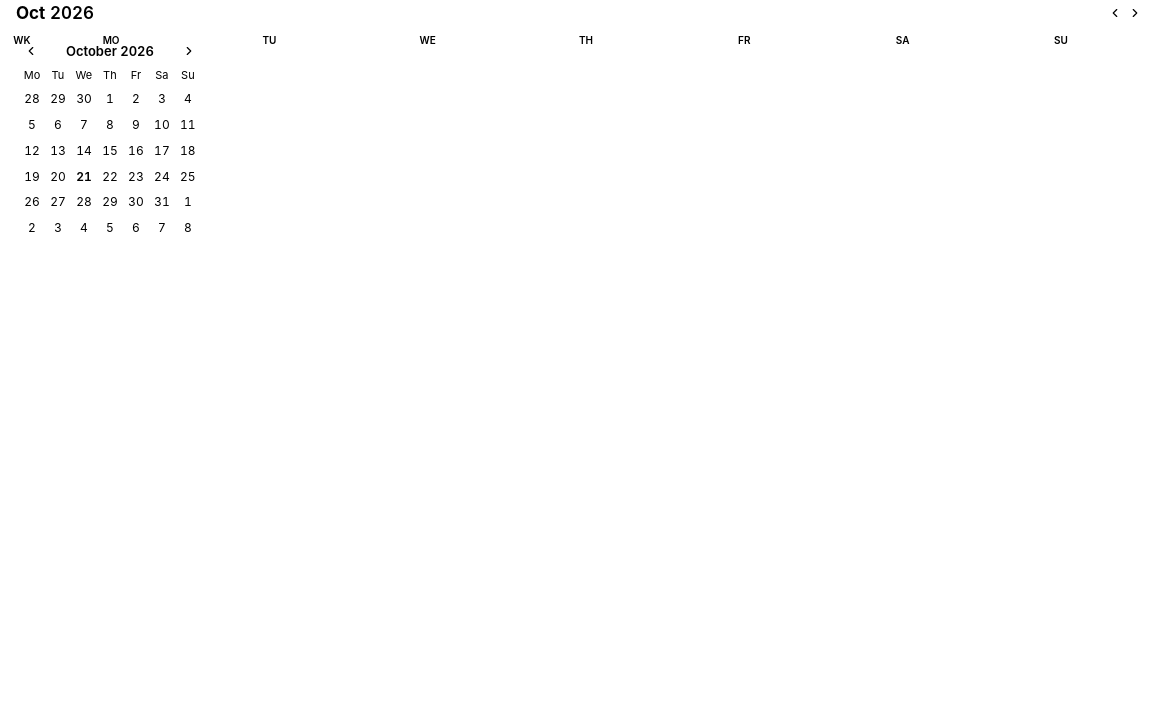
Test: DatePickerPopover › turning the month › shows the previous and next month without changing the shown day
The image size is (1152, 720).
Check: the button "Oct 2026" is shown, box x1=12 y1=0 x2=1104 y2=26
Click the button named "Previous month".
click(31, 51)  # box x1=20 y1=40 x2=42 y2=62
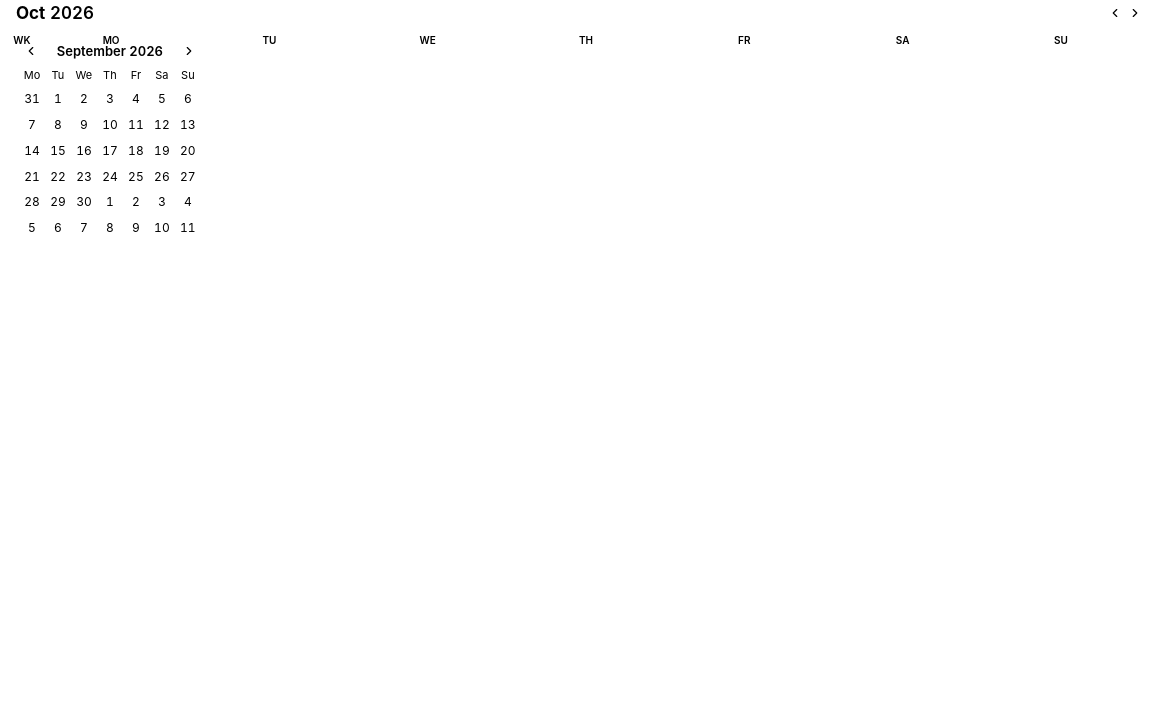
Check: the table named "September 2026" is shown, box x1=20 y1=66 x2=200 y2=240
Click the button named "Next month".
click(189, 51)  # box x1=178 y1=40 x2=200 y2=62
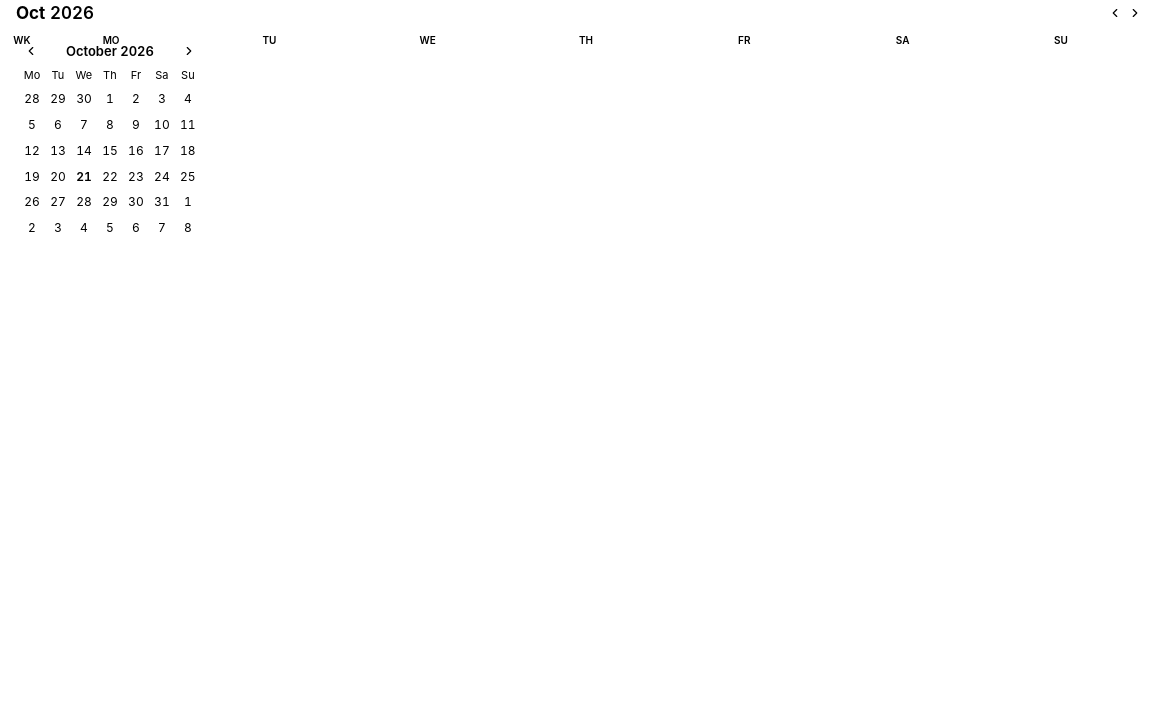
Click the button named "Next month".
click(189, 51)  # box x1=178 y1=40 x2=200 y2=62
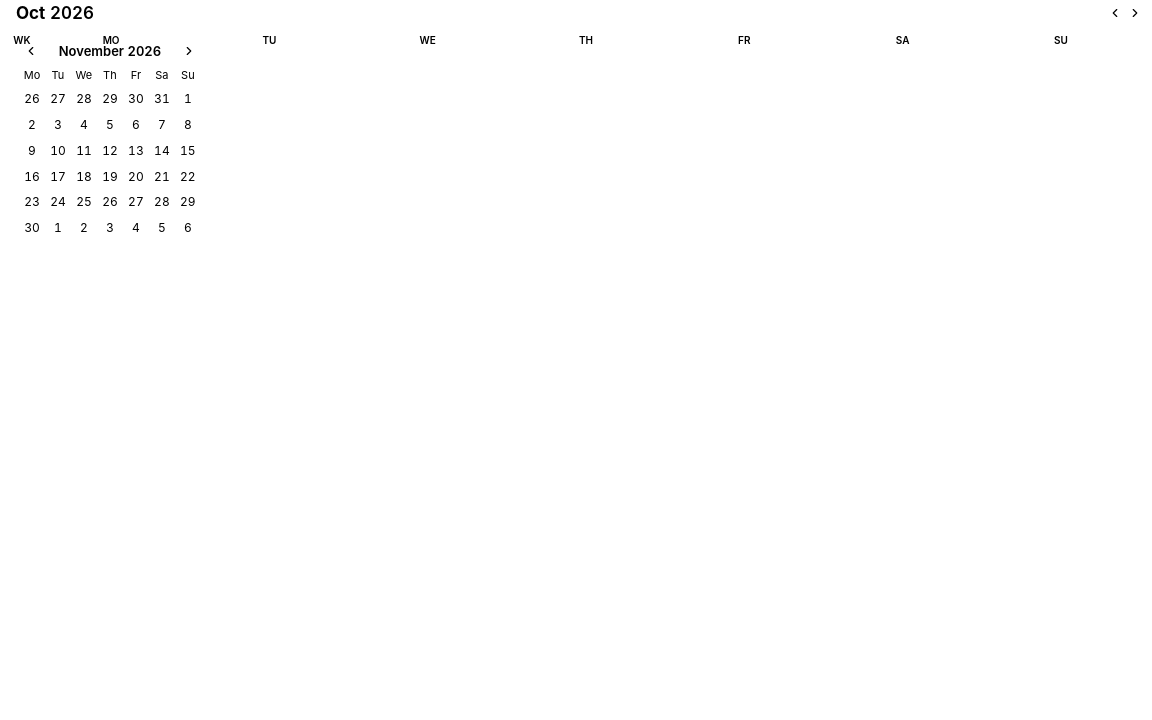
Check: the table named "November 2026" is shown, box x1=20 y1=66 x2=200 y2=240
